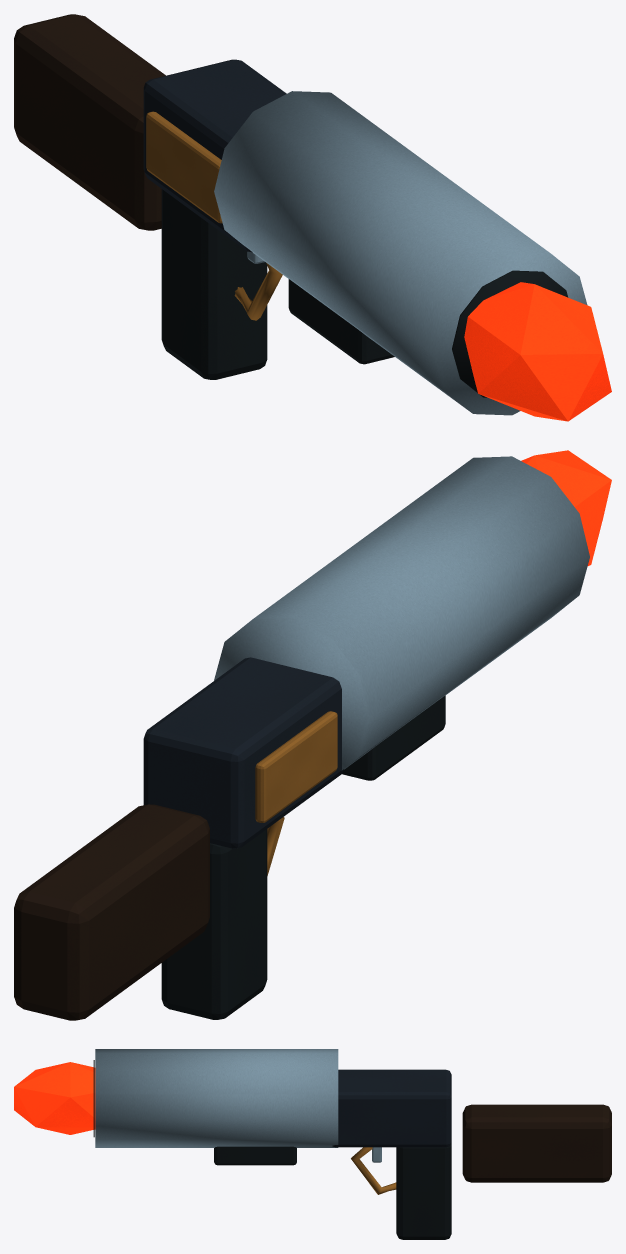
File: Gun_Rocket.fbx
3 renders of one model, top to bottom at view 1: azimuth 30°, elevation 25°; view 2: azimuth 150°, elevation 25°; view 3: azimuth 270°, elevation 25°, orthographic. The views are drawn at different scales.
Parts seen in each view (by area): view 1: Gun_Rocket_Steel, Gun_Rocket_Wood, Gun_Rocket_Leather, Gun_Rocket_Ember, Gun_Rocket_DarkSteel, Gun_Rocket_Gold; view 2: Gun_Rocket_Steel, Gun_Rocket_Wood, Gun_Rocket_DarkSteel, Gun_Rocket_Leather, Gun_Rocket_Gold, Gun_Rocket_Ember; view 3: Gun_Rocket_Steel, Gun_Rocket_Wood, Gun_Rocket_DarkSteel, Gun_Rocket_Leather, Gun_Rocket_Ember, Gun_Rocket_Gold.
Boxes of the visible parts, x1=… form: Gun_Rocket_Steel: x1=214, y1=91, x2=587, y2=415; Gun_Rocket_Wood: x1=14, y1=14, x2=165, y2=230; Gun_Rocket_Leather: x1=161, y1=189, x2=568, y2=397; Gun_Rocket_Ember: x1=464, y1=282, x2=611, y2=421; Gun_Rocket_DarkSteel: x1=143, y1=59, x2=286, y2=252; Gun_Rocket_Gold: x1=146, y1=111, x2=282, y2=320; Gun_Rocket_Steel: x1=214, y1=456, x2=589, y2=770; Gun_Rocket_Wood: x1=14, y1=804, x2=209, y2=1020; Gun_Rocket_DarkSteel: x1=143, y1=657, x2=343, y2=848; Gun_Rocket_Leather: x1=161, y1=695, x2=445, y2=1019; Gun_Rocket_Gold: x1=255, y1=711, x2=337, y2=875; Gun_Rocket_Ember: x1=521, y1=450, x2=611, y2=565; Gun_Rocket_Steel: x1=95, y1=1049, x2=381, y2=1162; Gun_Rocket_Wood: x1=462, y1=1104, x2=611, y2=1182; Gun_Rocket_DarkSteel: x1=332, y1=1069, x2=451, y2=1147; Gun_Rocket_Leather: x1=93, y1=1060, x2=451, y2=1239; Gun_Rocket_Ember: x1=14, y1=1062, x2=95, y2=1134; Gun_Rocket_Gold: x1=351, y1=1147, x2=396, y2=1194.
Size of the model in its own units: 0.18 by 0.36 by 1.08.
